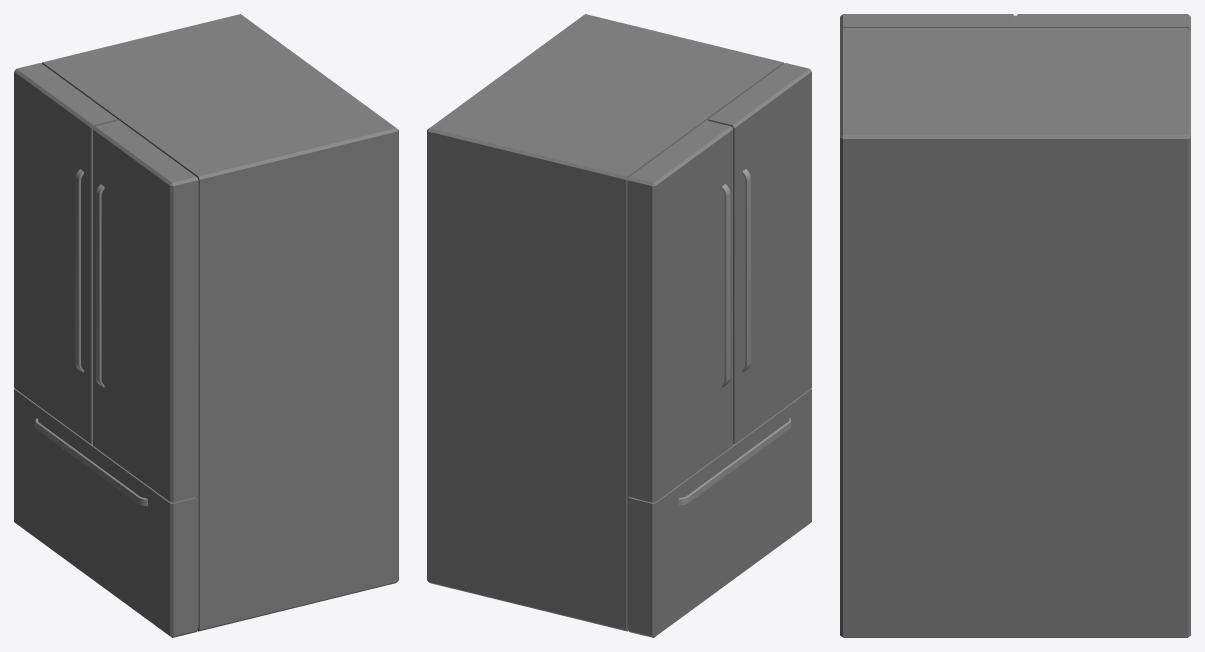
Rendered from refrigerator1.glb.
3 views of the same model, side by side, from view 1: azimuth 30°, elevation 25°; view 2: azimuth 150°, elevation 25°; view 3: azimuth 270°, elevation 25° (orthographic). The views are drawn at different scales.
Visible parts, largest first — view 1: Refrigerator1_1, Line005_2; view 2: Refrigerator1_1, Line005_2; view 3: Refrigerator1_1.
Boxes of the visible parts, x1,y1,x2,y2 form: Refrigerator1_1: (14, 14, 398, 637); Line005_2: (35, 169, 147, 506); Refrigerator1_1: (427, 14, 811, 637); Line005_2: (678, 169, 791, 505); Refrigerator1_1: (840, 14, 1190, 637).
Bounding box in the file's own units: 5.11 × 9.5 × 6.
2 materials, 2 textured.
